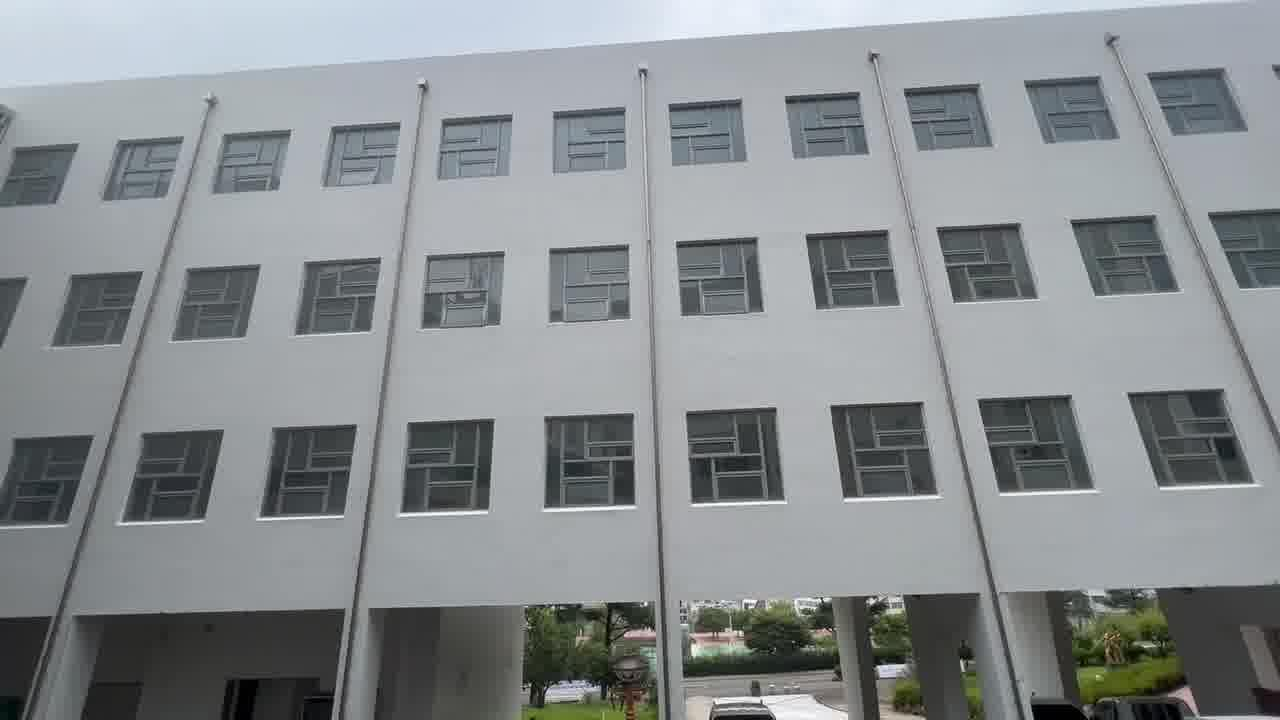building: (33, 68, 1257, 577)
